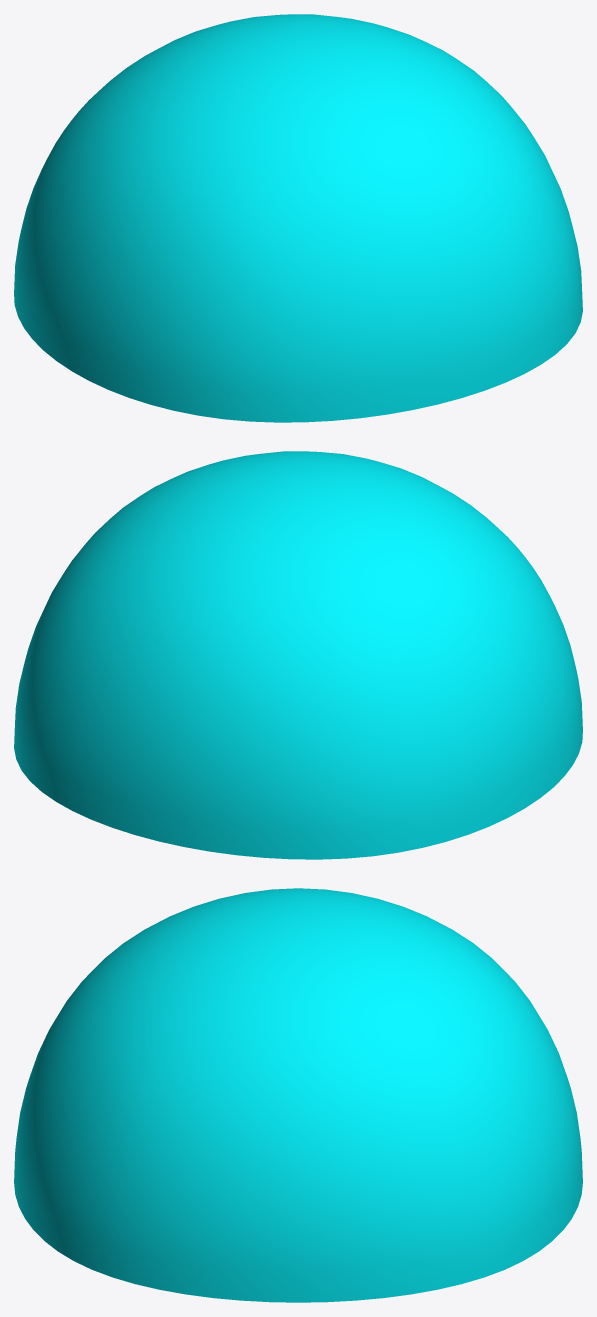
The model's file is Arena.fbx.
3 views of the same model, one above another, from view 1: azimuth 30°, elevation 25°; view 2: azimuth 150°, elevation 25°; view 3: azimuth 270°, elevation 25° (orthographic).
Parts seen in each view (by area): view 1: Arena; view 2: Arena; view 3: Arena.
Boxes of the visible parts, bbox=[...] form: Arena: bbox=[14, 14, 582, 422]; Arena: bbox=[14, 451, 582, 859]; Arena: bbox=[14, 888, 582, 1302].
Size of the model in its own units: 1679 by 857 by 1679.
